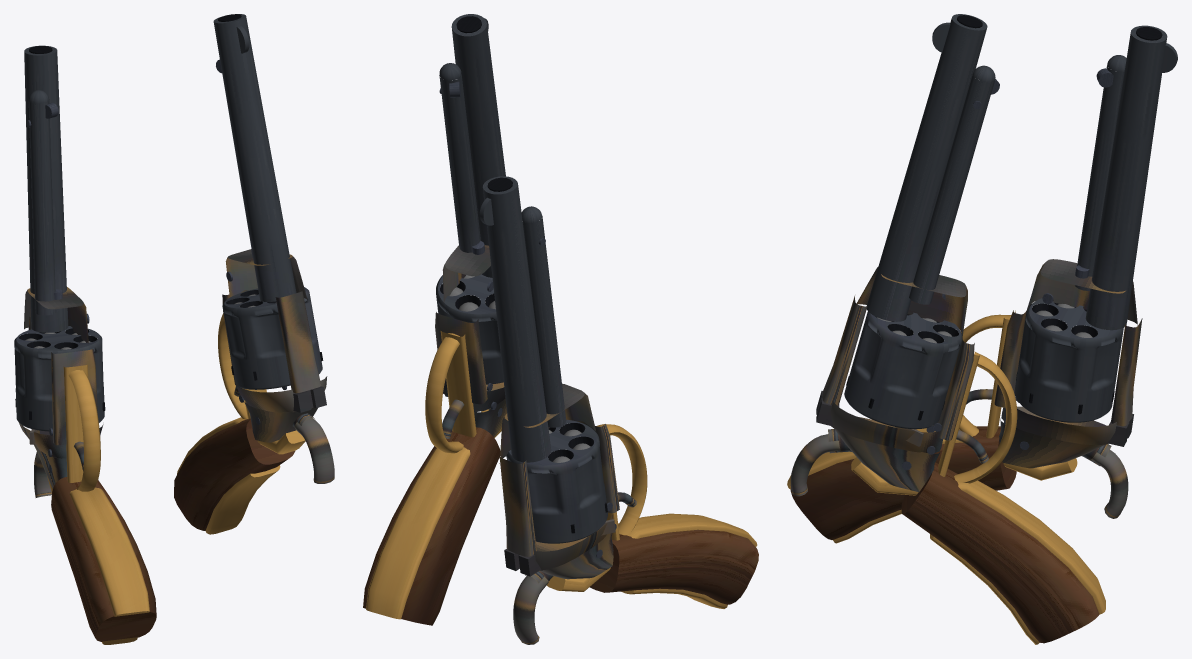
The model's file is gun.rusty-six.glb.
3 views of the same model, side by side, from view 1: azimuth 30°, elevation 25°; view 2: azimuth 150°, elevation 25°; view 3: azimuth 270°, elevation 25° (orthographic). The views are drawn at different scales.
Parts seen in each view (by area): view 1: revolver (×2); view 2: revolver (×2); view 3: revolver (×2).
Part boxes in pixels (x1,y1,x2,y2): revolver (×2): (14,14,334,644); revolver (×2): (363,14,758,644); revolver (×2): (787,14,1177,644).
Bounding box in the file's own units: 0.1616 × 0.3355 × 0.1944.
1 material, 1 textured.
